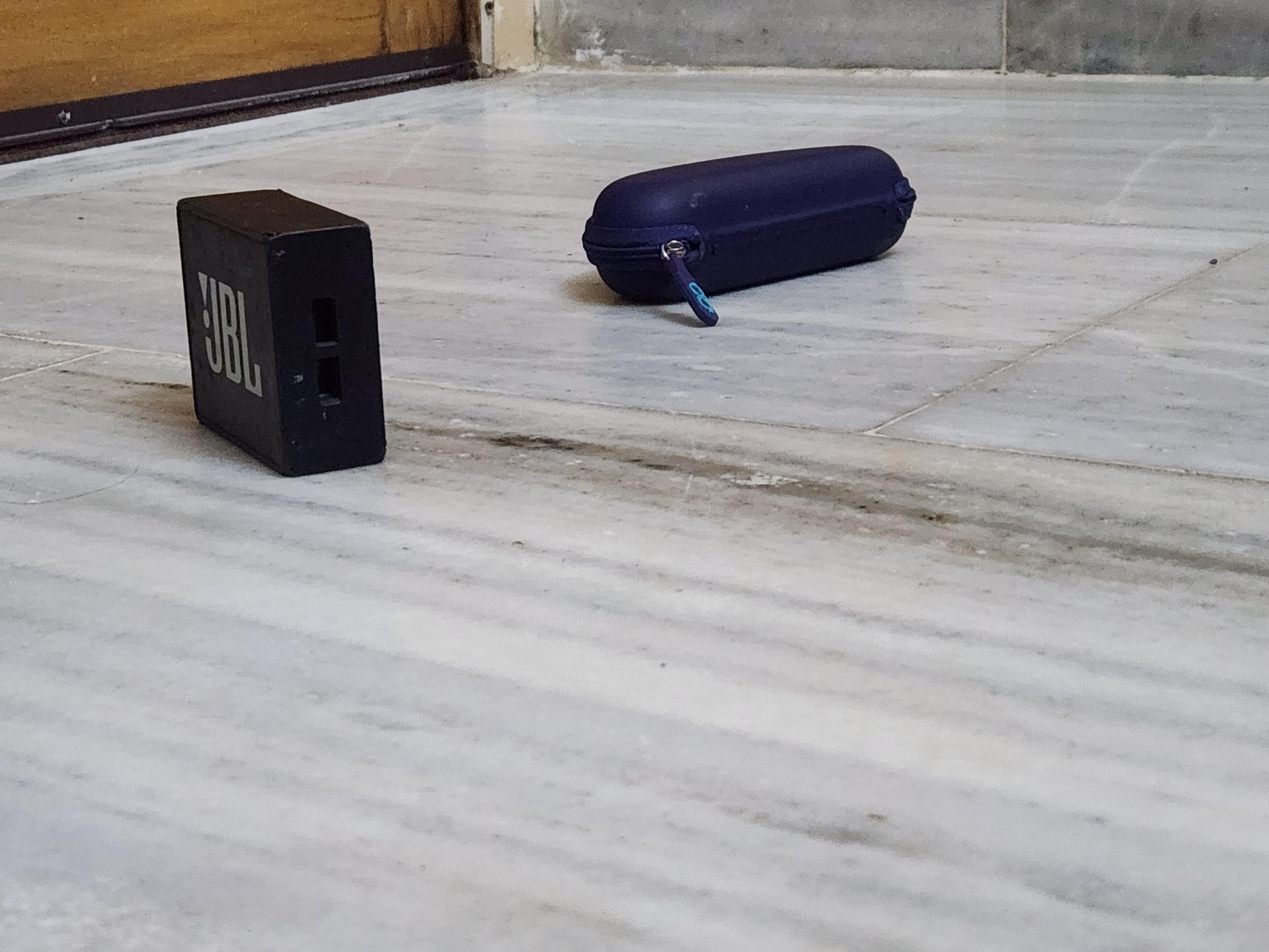case: (579, 144, 921, 332)
speaker: (172, 188, 392, 481)
